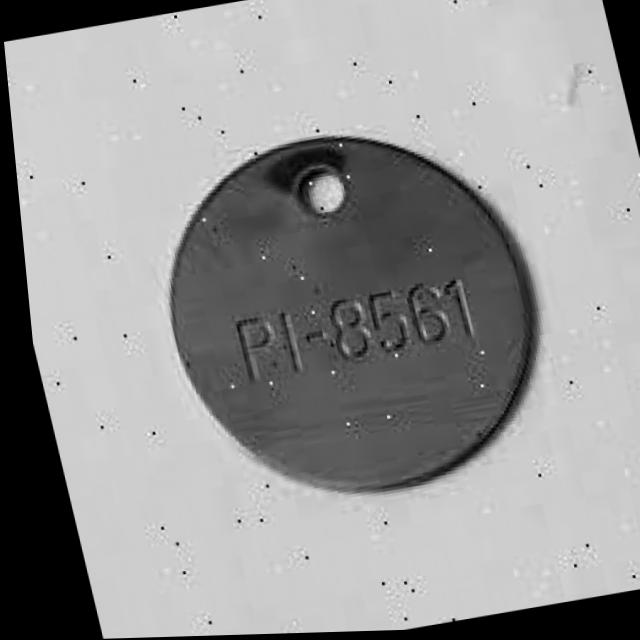ocr: (205, 253, 482, 417)
